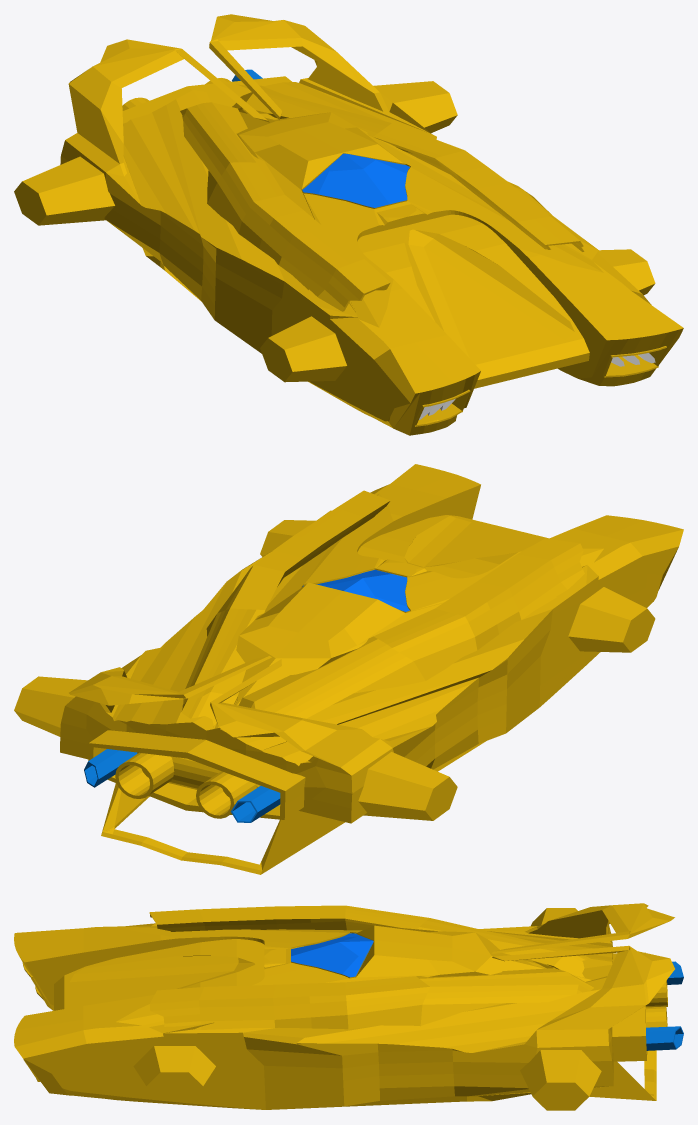
The model's file is Voxtek - Remake v4.fbx.
3 views of the same model, one above another, from view 1: azimuth 30°, elevation 25°; view 2: azimuth 150°, elevation 25°; view 3: azimuth 270°, elevation 25° (orthographic). The views are drawn at different scales.
Visible parts, largest first — view 1: Cone.001, Cone.003; view 2: Cone.001, Cone.002, Cone.003; view 3: Cone.001, Cone.003, Cone.002.
Boxes of the visible parts, x1,y1,x2,y2 form: Cone.001: (14,14,683,435); Cone.003: (302,153,409,207); Cone.001: (14,464,683,874); Cone.002: (84,749,280,822); Cone.003: (302,569,409,611); Cone.001: (14,903,674,1110); Cone.003: (291,933,373,977); Cone.002: (646,961,683,1050).
Size of the model in its own units: 655 by 231 by 1063.
